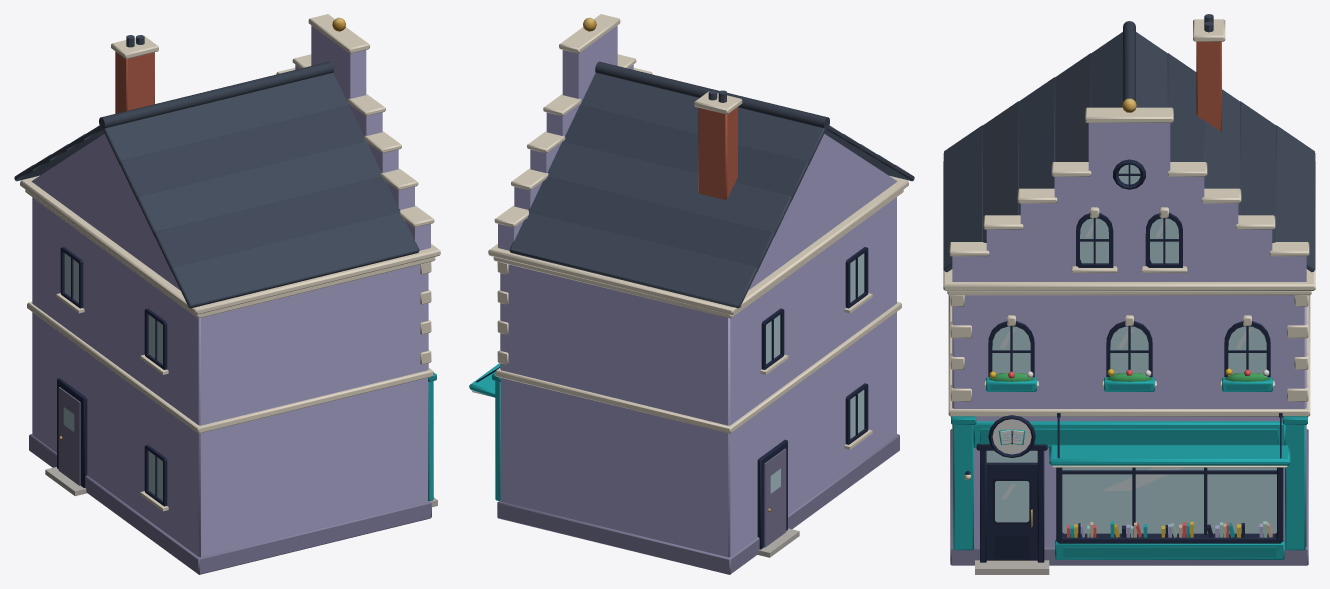
File: house_d.glb
3 renders of one model, left to right at view 1: azimuth 30°, elevation 25°; view 2: azimuth 150°, elevation 25°; view 3: azimuth 270°, elevation 25°, orthographic. The views are drawn at different scales.
Parts seen in each view (by area): view 1: HouseD; view 2: HouseD; view 3: HouseD.
Boxes of the visible parts, box(x1,y1,x2,y2) form: HouseD: box(14, 14, 440, 574); HouseD: box(469, 14, 914, 574); HouseD: box(943, 14, 1315, 574).
Bounding box in the file's own units: 7.37 × 10.97 × 8.
